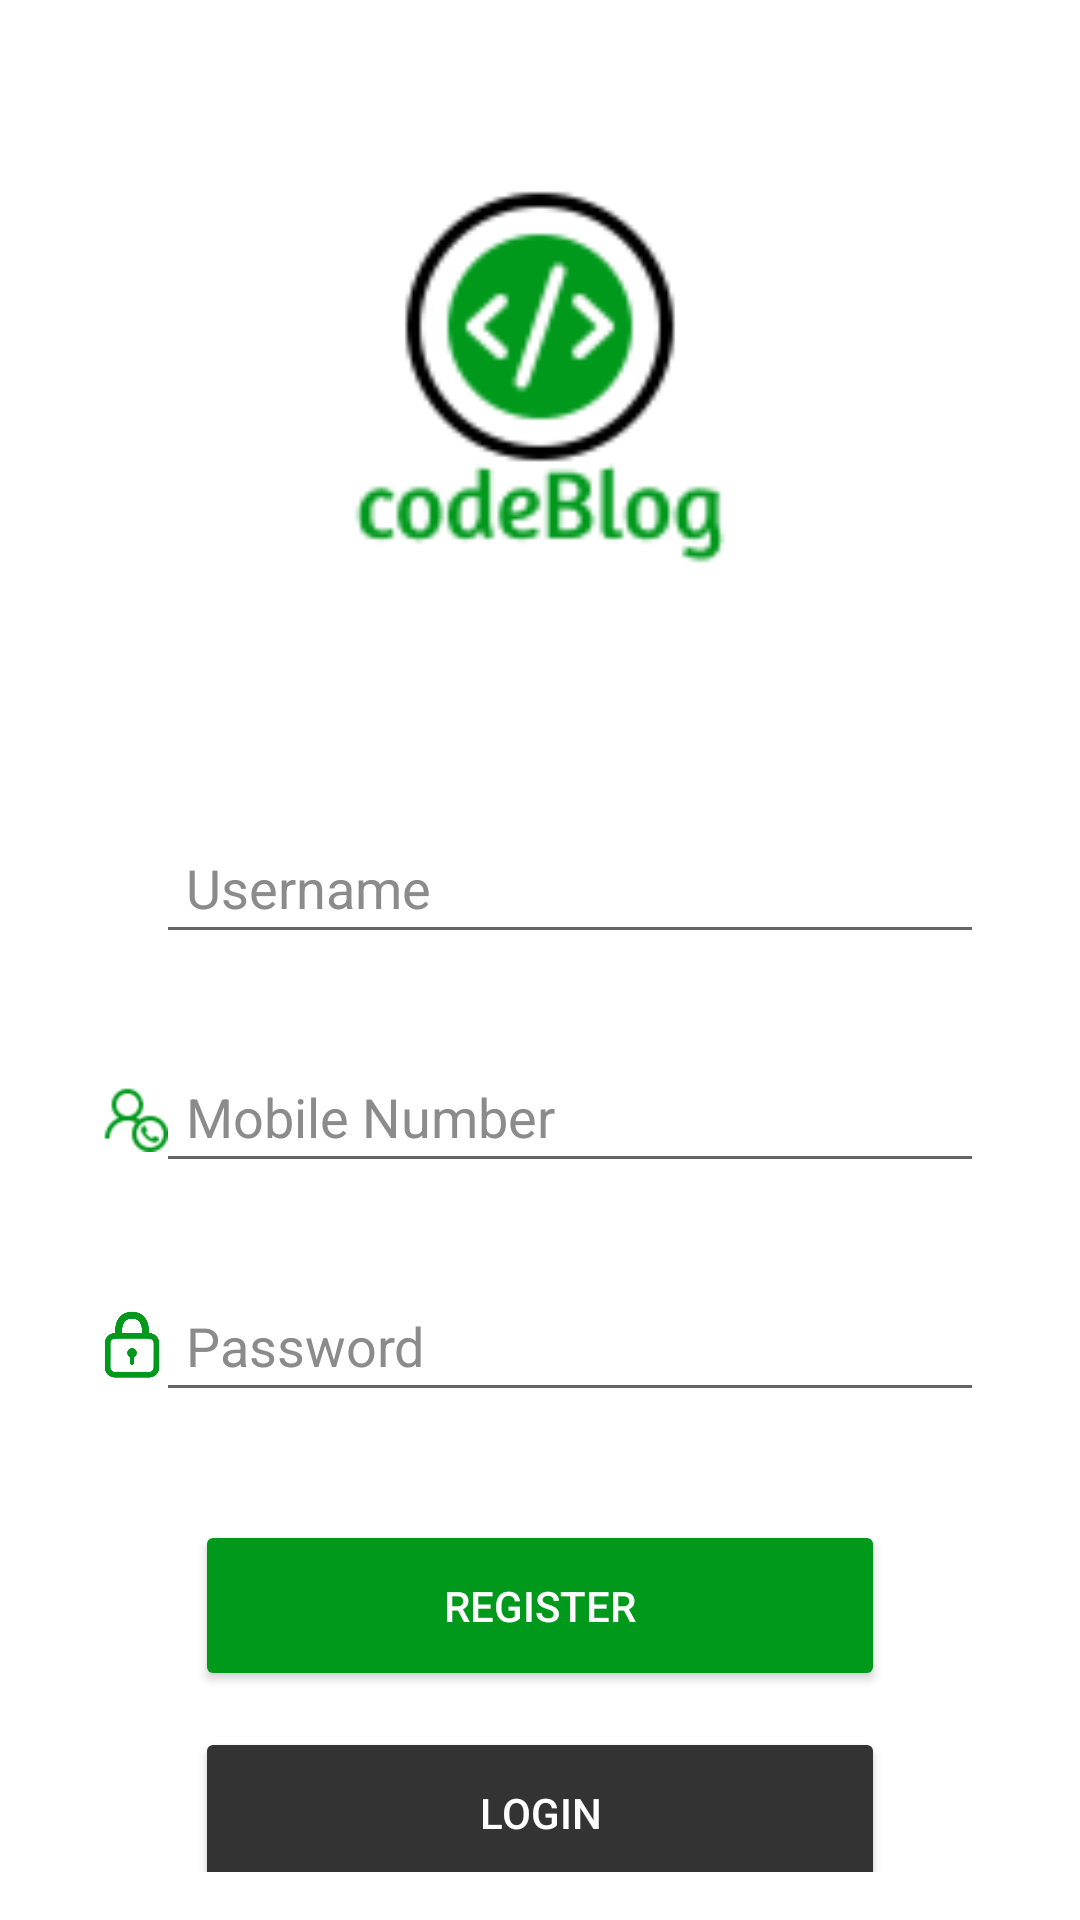

Screen size 1080px×1920px. Icon name, then its box in pixels as (x1, y1, x2, y2):
phone: (104, 1088, 168, 1152)
